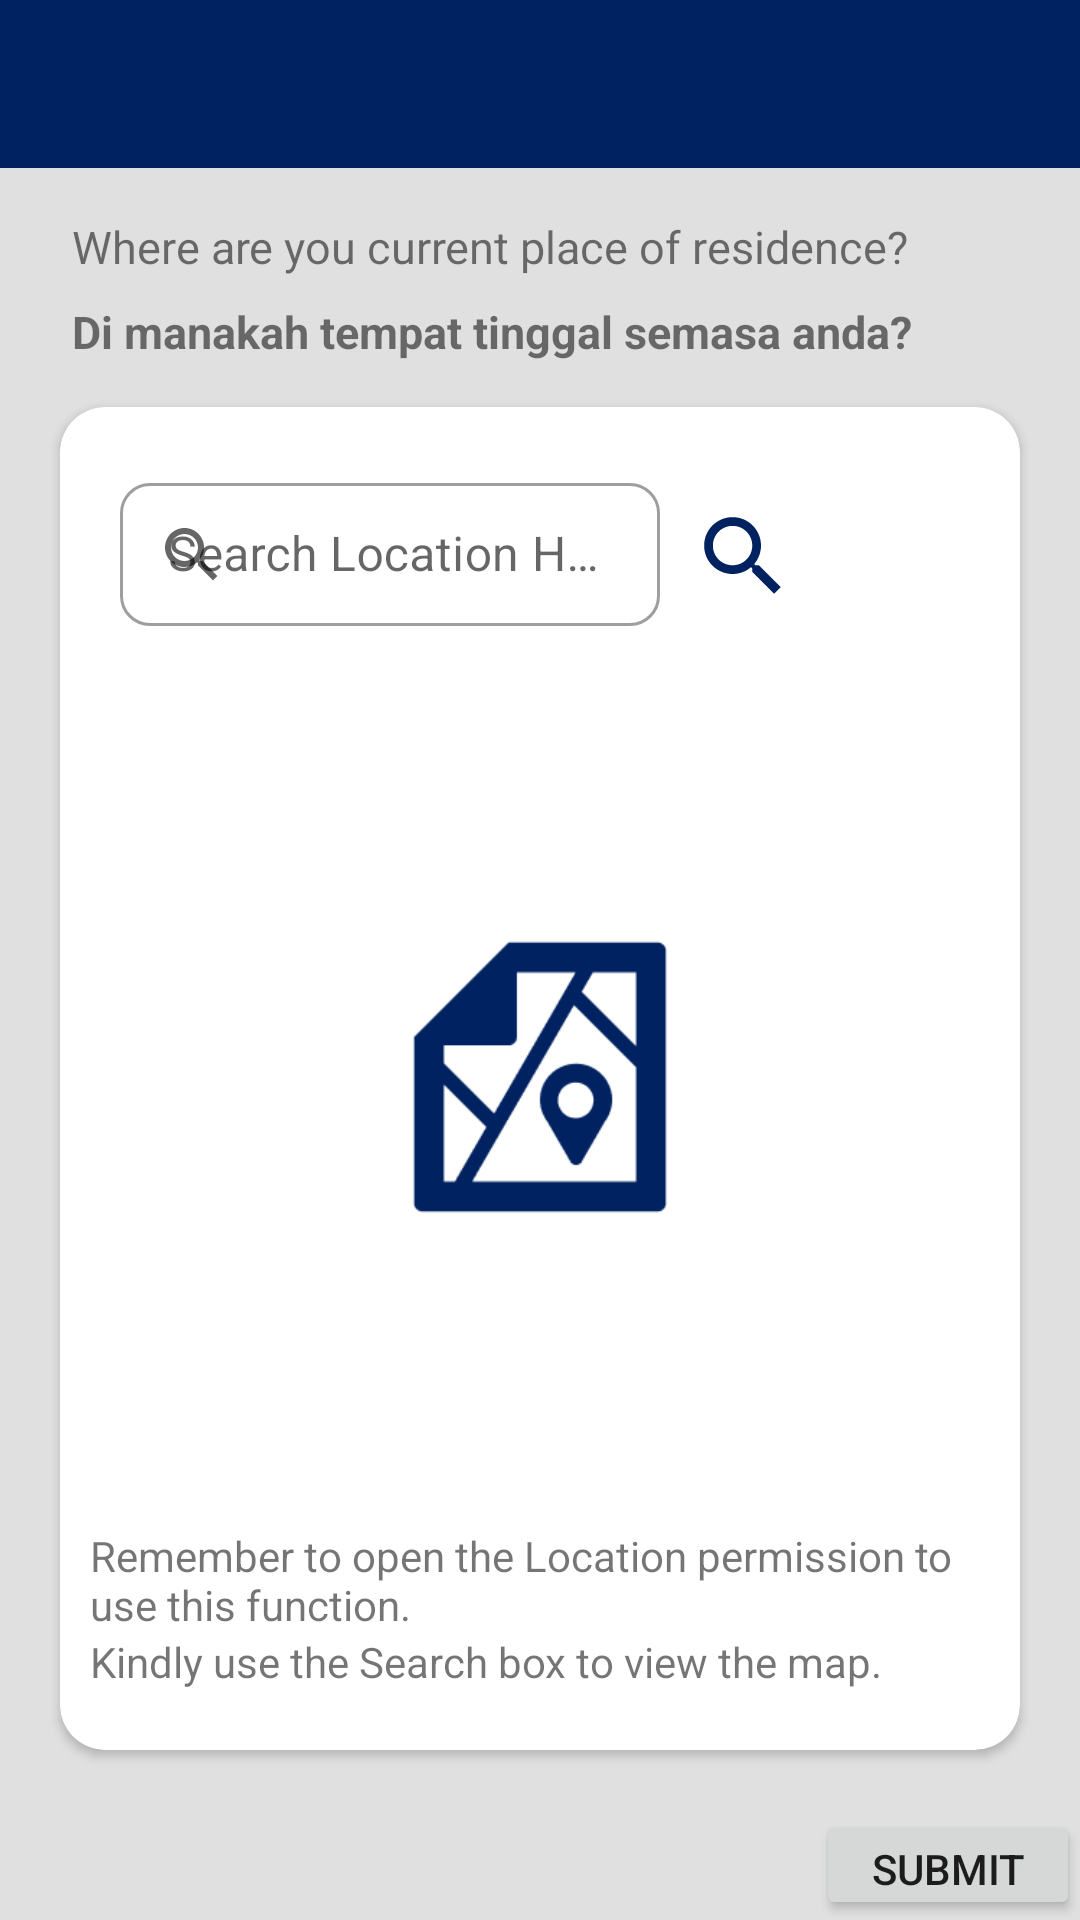

Locate icon controls on the screen. Image size 1080×1920, boxes as (x1, y1, x2, y2).
map: (413, 941, 667, 1213)
